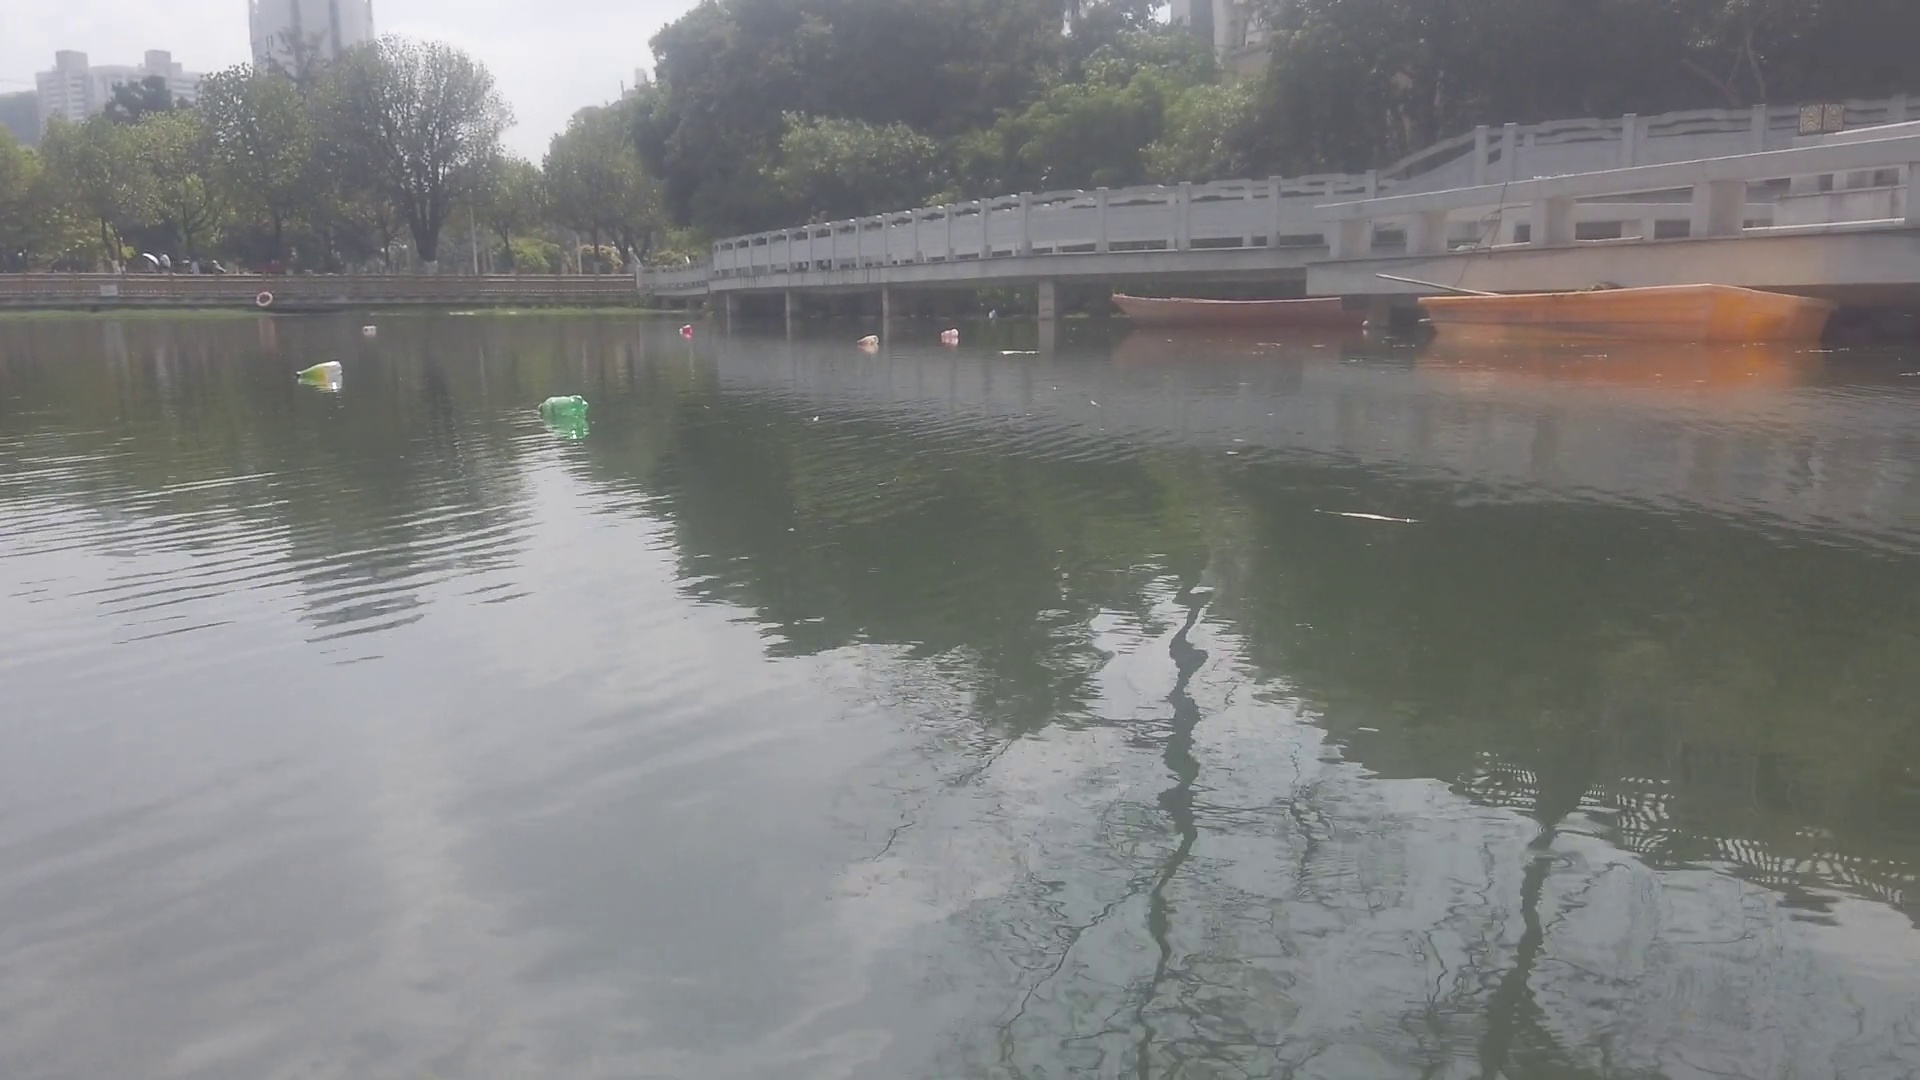bottle: (533, 392, 592, 419), (294, 357, 345, 385), (855, 332, 881, 352), (676, 319, 694, 338), (936, 328, 957, 342), (360, 324, 378, 334)
paper: (997, 344, 1038, 357)
